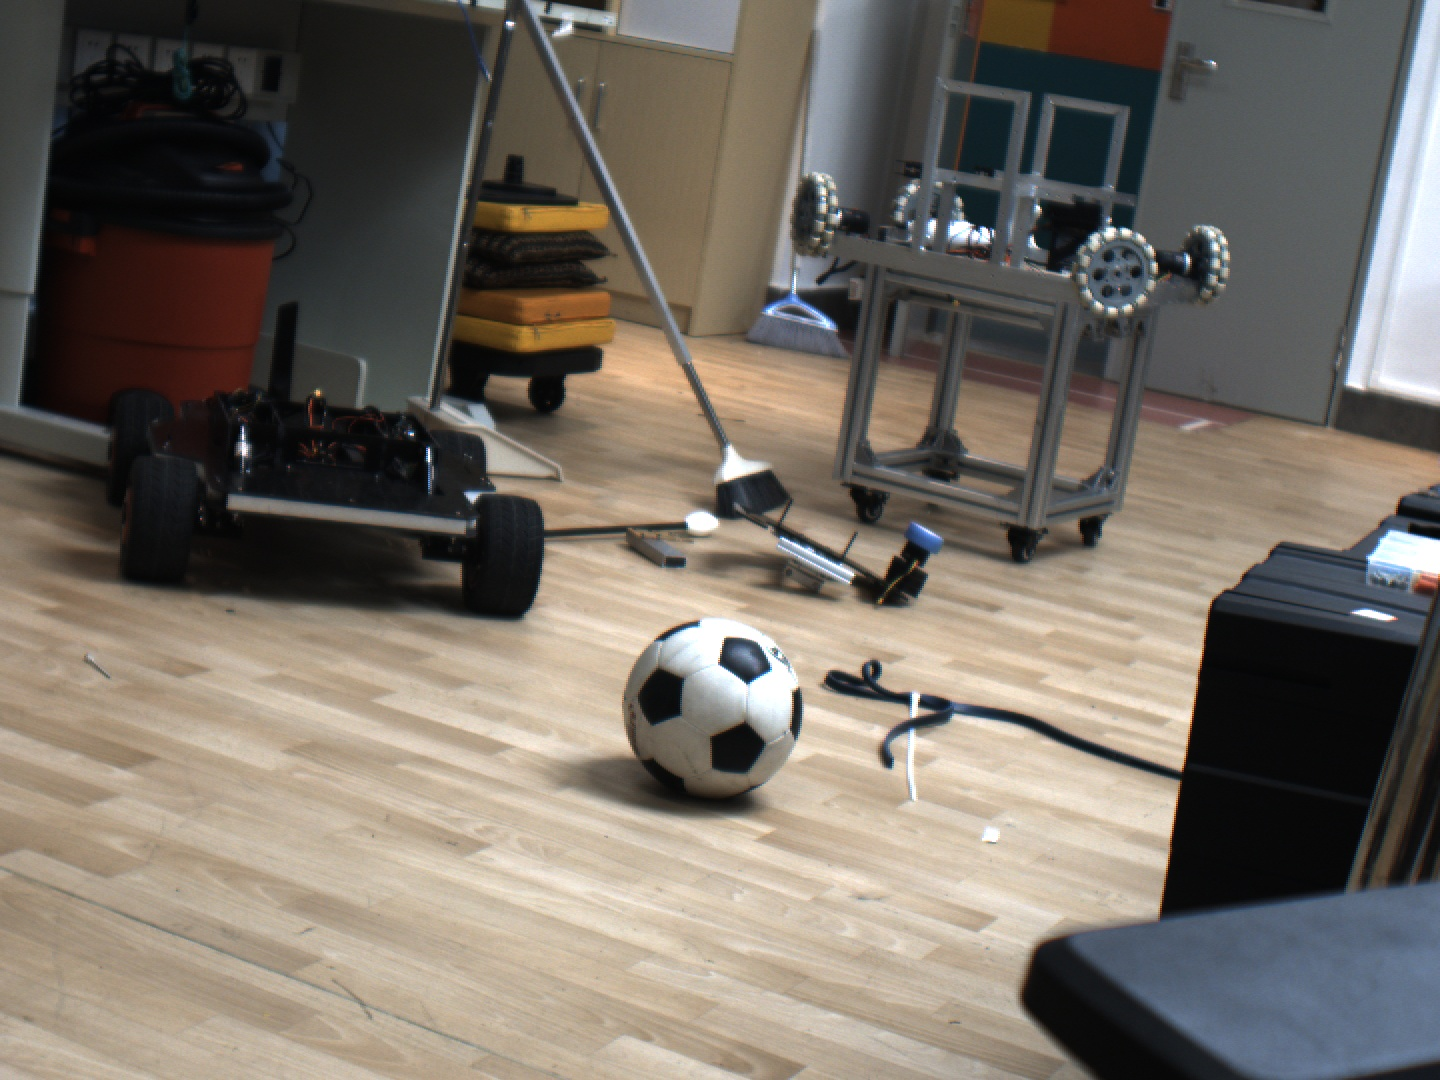ball: (612, 611, 845, 828)
